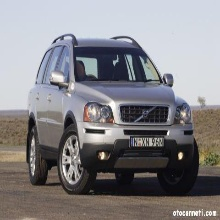no damage: (25, 34, 200, 196)
